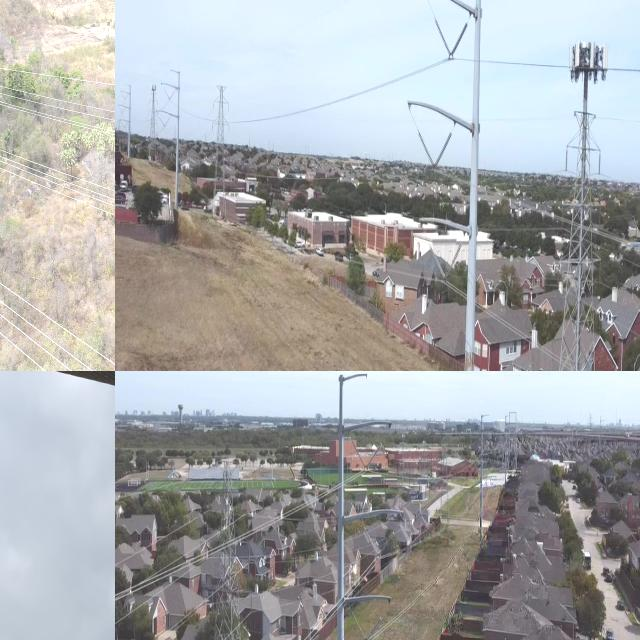杆塔: (550, 96, 609, 371), (198, 445, 256, 640), (208, 74, 230, 194), (144, 75, 162, 145)
正常绝缘子: (430, 129, 454, 175), (432, 16, 454, 61), (416, 130, 437, 175), (447, 20, 469, 62), (442, 243, 463, 286), (427, 241, 448, 283), (375, 526, 398, 562), (361, 522, 382, 560), (362, 439, 384, 475), (348, 432, 368, 471), (348, 604, 368, 640), (592, 141, 605, 189), (364, 613, 385, 640), (562, 141, 572, 184)
